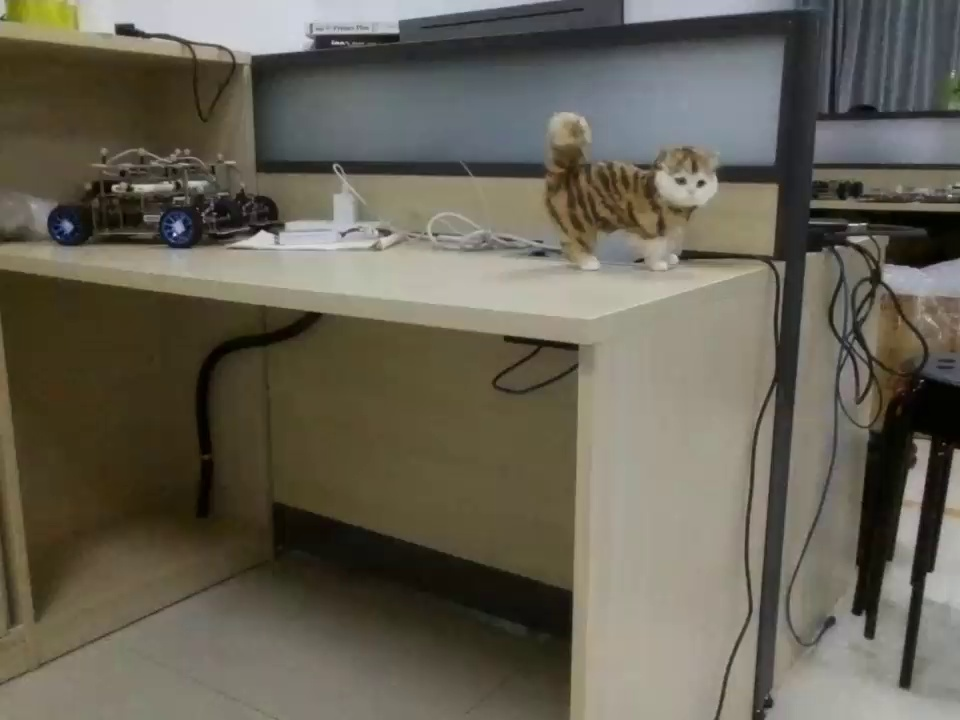cat: (520, 88, 738, 280)
